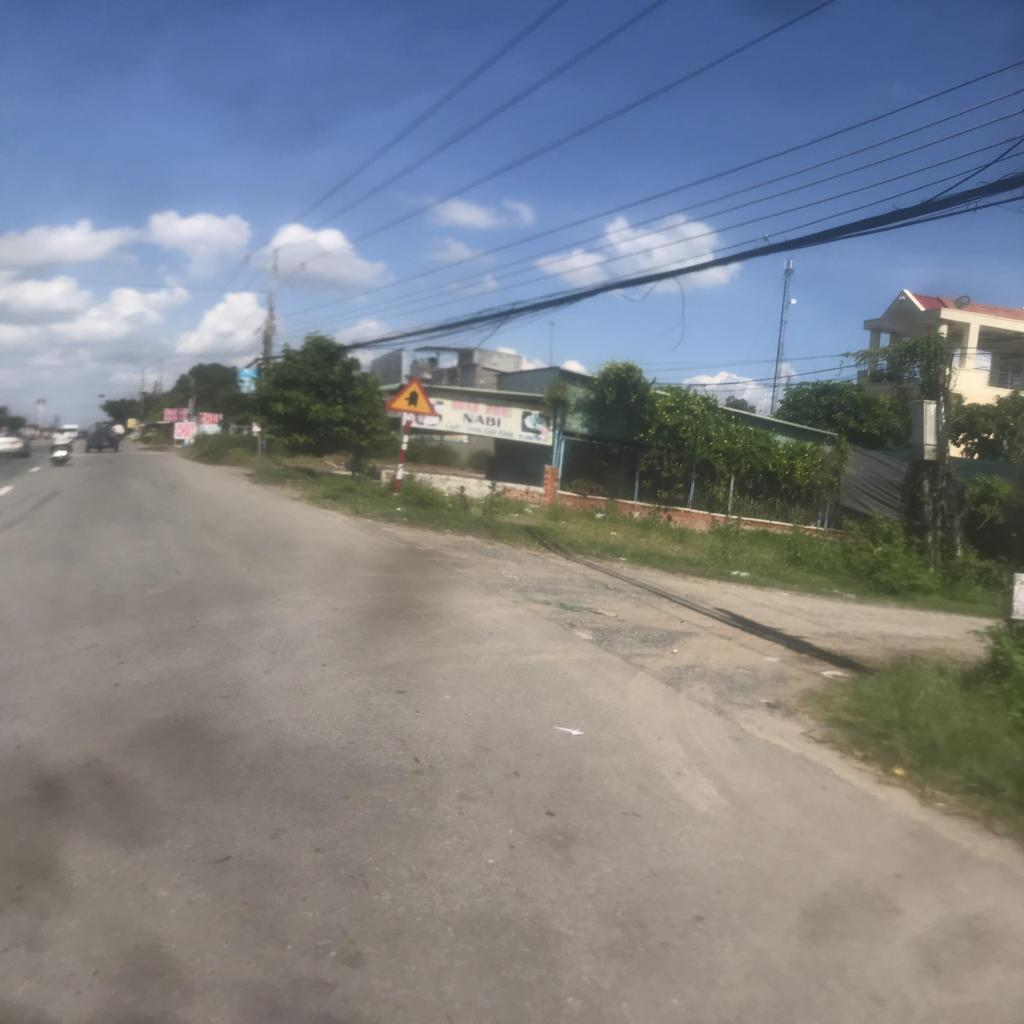giao_nhau_voi_duong_khong_uu_tien: (384, 379, 436, 416)
